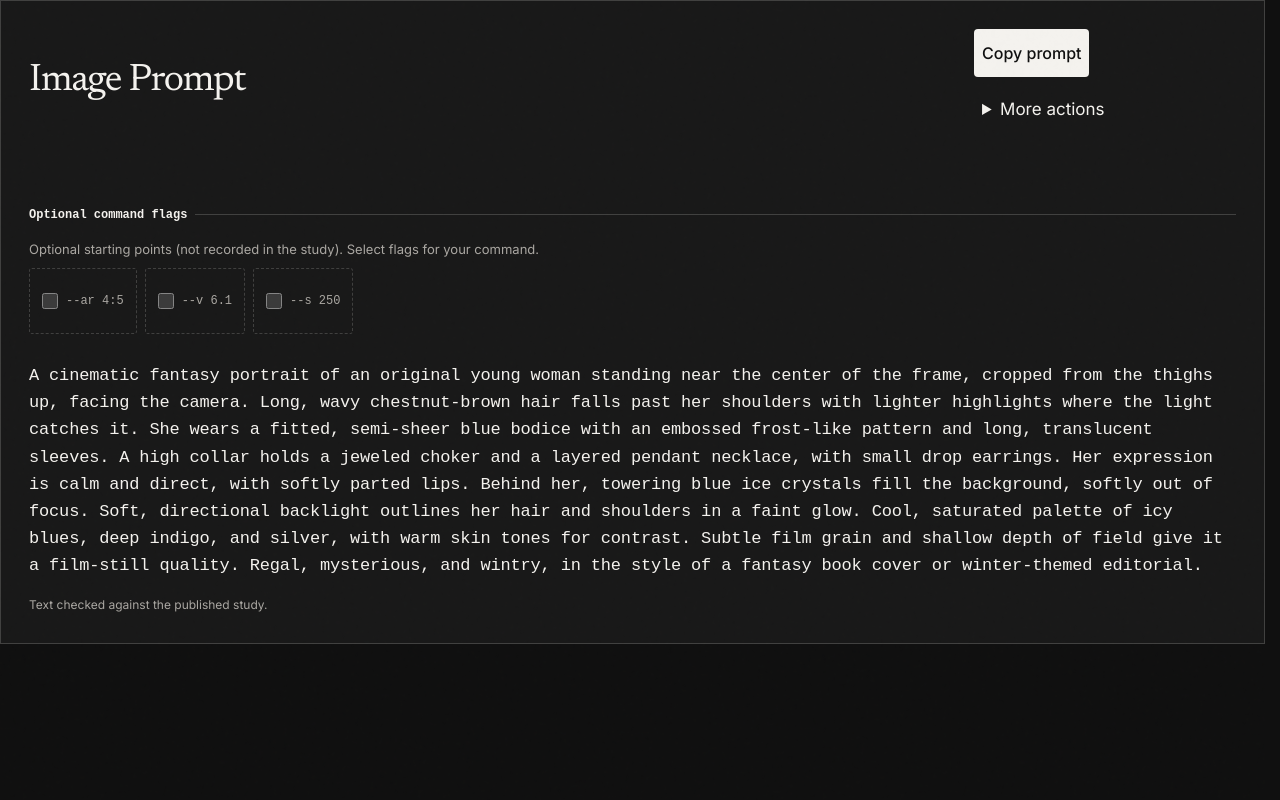
Test case: reports failed copying without changing the prompt
The image size is (1280, 800).
Click the button "Copy prompt" at (1032, 53), box [974,29,1089,77]
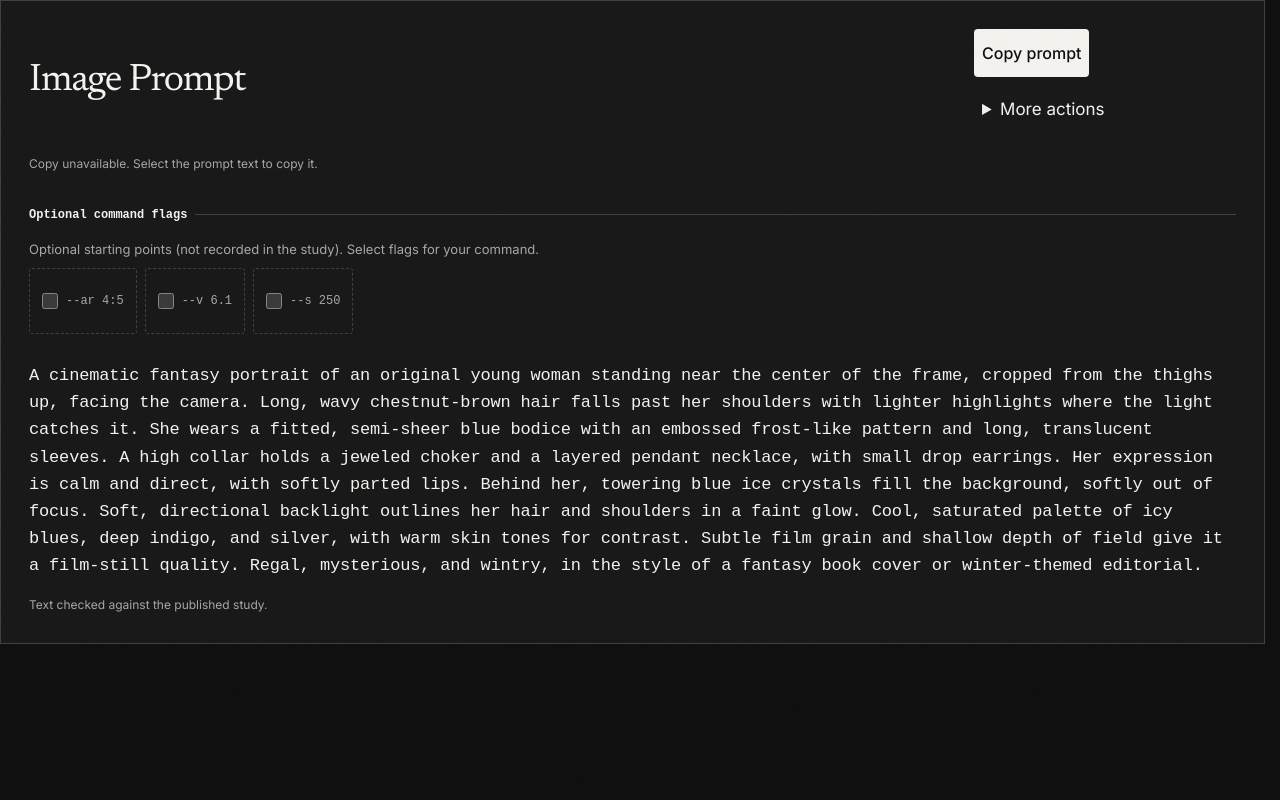
Check: the text "A cinematic fantasy portrait of an original young woman standing near the center of the frame, cropped from the thighs u" is shown, box [29,366,1233,575]
Check: the message shows "Select the prompt text", box [29,156,318,171]
